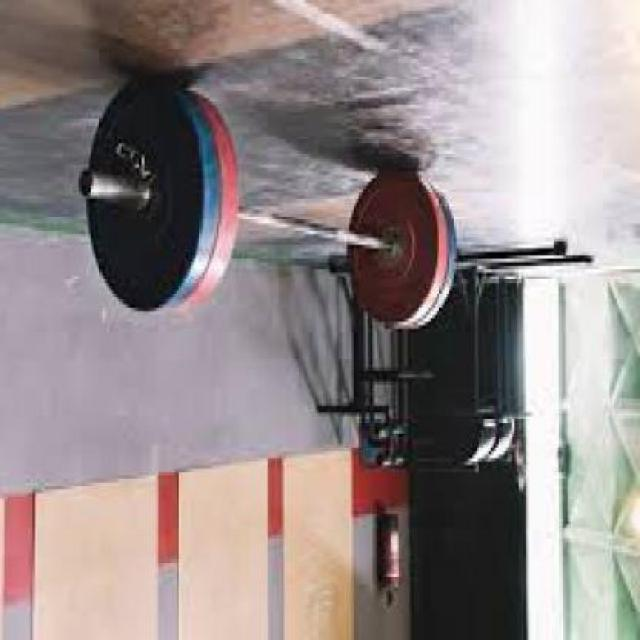Barbell: (77, 164, 100, 213)
